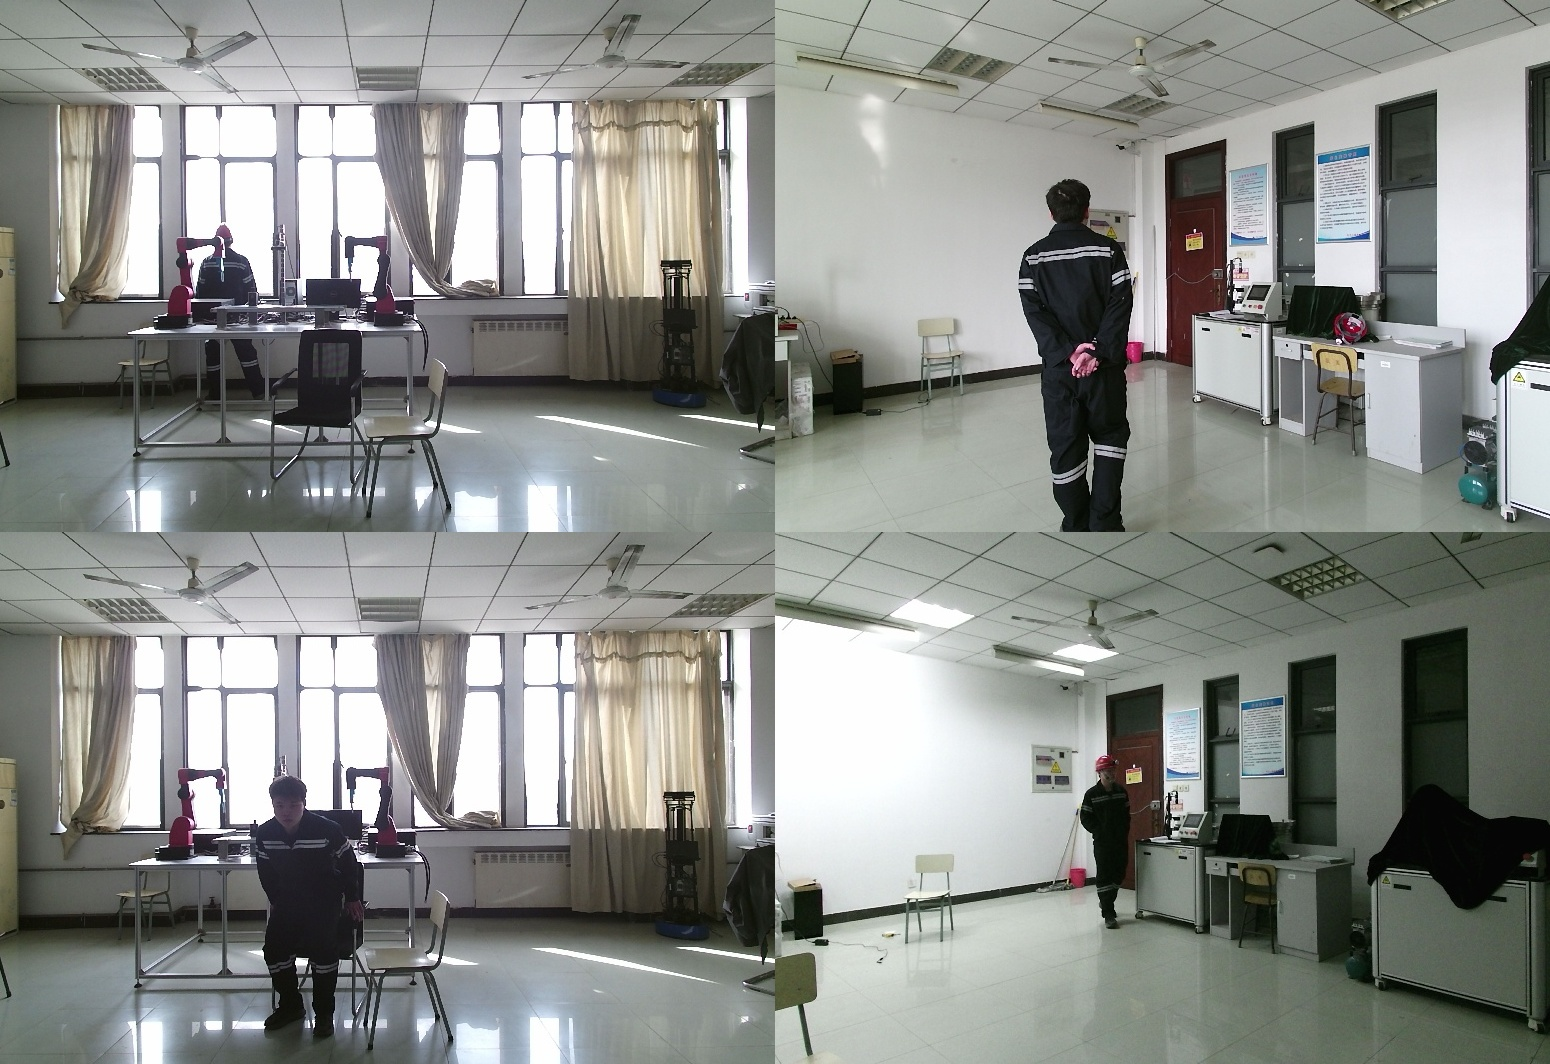person: (1015, 178, 1147, 532), (250, 780, 367, 1036), (196, 227, 270, 412), (1079, 756, 1137, 932)
